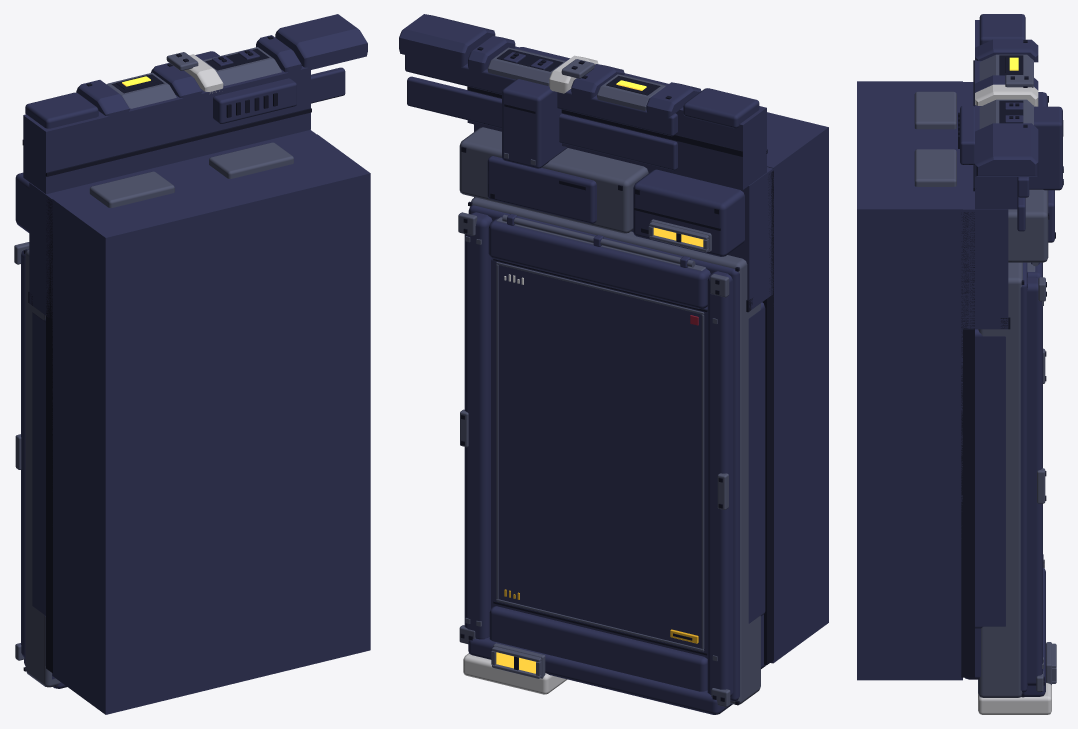
File: hull.bay.livery.navy.navy.louvre.w2.000.s2.k-2.2.glb
The picture shows the model from 3 angles, left to right: view 1: azimuth 30°, elevation 25°; view 2: azimuth 150°, elevation 25°; view 3: azimuth 270°, elevation 25°; orthographic projection. The views are drawn at different scales.
Parts seen in each view (by area): view 1: hull.bay.livery.navy.navy.louvre.w2.000.s2.k-2.2; view 2: hull.bay.livery.navy.navy.louvre.w2.000.s2.k-2.2; view 3: hull.bay.livery.navy.navy.louvre.w2.000.s2.k-2.2.
Boxes of the visible parts, left/top/right/bottom form: hull.bay.livery.navy.navy.louvre.w2.000.s2.k-2.2: left=14, top=14, right=370, bottom=714; hull.bay.livery.navy.navy.louvre.w2.000.s2.k-2.2: left=399, top=14, right=828, bottom=714; hull.bay.livery.navy.navy.louvre.w2.000.s2.k-2.2: left=857, top=14, right=1063, bottom=714.
Size of the model in its own units: 2.44 by 4.33 by 1.37.
